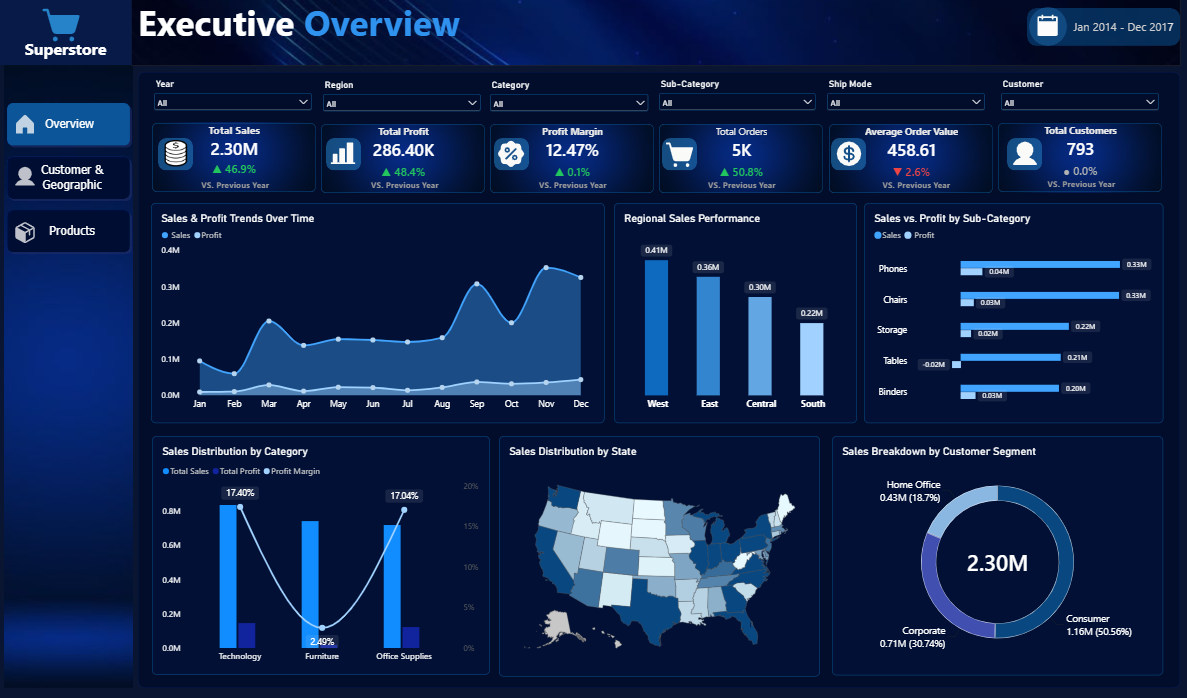

The page's visual inventory and layout, read from the dashboard file:
{"tool":"powerbi","page":{"name":"Overview","canvas":[1980,1170],"ordinal":0},"visuals":[{"type":"image","box":[8.3,111.7,215,1038.3],"z":0},{"type":"shape","box":[231.7,123.3,1736.7,1026.7],"z":1000},{"type":"image","box":[1100.7,210.5,273,115],"z":2000},{"type":"image","box":[1665.1,210.5,273,115],"z":3000},{"type":"image","box":[818.5,210.5,273,115],"z":4000},{"type":"image","box":[1382.9,210.5,273,115],"z":5000},{"type":"image","box":[537.7,209.4,273,115],"z":6000},{"type":"image","box":[255.2,206.5,273,115],"z":7000},{"type":"image","box":[220.4,0,1748.6,112.6],"z":8000},{"type":"textbox","box":[231.4,0,592.9,111.4],"z":9000},{"type":"shape","box":[0,0,220.8,111.8],"z":10000},{"type":"textbox","box":[36.7,67.2,148.9,44.1],"z":11000},{"type":"image","box":[22.9,12.2,162,67.2],"z":12000},{"type":"shape","box":[1713.7,15.9,255.2,63.4],"z":13000},{"type":"shape","box":[1716.8,14.3,63.4,65],"z":14000},{"type":"image","box":[1710.5,25.4,74.9,44.3],"z":15000},{"type":"slicer","fields":{"Values":["Dim_Products.Category"]},"box":[813.2,134.7,274.3,65],"z":16000},{"type":"slicer","fields":{"Values":["Dim_Customers.Customer Name"]},"box":[1664.5,133.2,272.7,66.6],"z":17000},{"type":"slicer","fields":{"Values":["Dim_Location.Region"]},"box":[534.2,134.7,272.7,65],"z":18000},{"type":"slicer","fields":{"Values":["Dim_ShipMode.Ship Mode"]},"box":[1374.4,133.2,272.7,66.6],"z":19000},{"type":"slicer","fields":{"Values":["Dim_Products.Sub-Category"]},"box":[1095.4,133.2,271.1,66.6],"z":20000},{"type":"cardVisual","fields":{"Data":["Measures_Table.Total Sales"]},"box":[255,208.8,273,115],"z":21000},{"type":"cardVisual","fields":{"Data":["Measures_Table.Profit Margin"]},"box":[818.8,209.9,273,115],"z":22000},{"type":"cardVisual","fields":{"Data":["Measures_Table.Total Profit"]},"box":[536.9,210,273,115],"z":23000},{"type":"cardVisual","fields":{"Data":["Measures_Table.Total Orders"]},"box":[1100.7,209.8,273,115],"z":24000},{"type":"cardVisual","fields":{"Data":["Measures_Table.AOV"]},"box":[1382.6,209.7,273,115],"z":25000},{"type":"cardVisual","fields":{"Data":["Measures_Table.Total Customers"]},"box":[1664.5,208.9,273,115.7],"z":26000},{"type":"slicer","fields":{"Values":["Dim_Date.Year"]},"box":[253.6,133.2,272.7,66.6],"z":27000},{"type":"lineChart","title":"Sales & Profit Trends Over Time","fields":{"Category":["Dim_Date.Short Month Name","Dim_Date.Quarter","Dim_Date.Year"],"Y":["Measures_Table.Total Sales","Measures_Table.Total Profit"]},"box":[253.3,341.5,756.4,366.5],"z":28000},{"type":"donutChart","title":"Sales Breakdown by Customer Segment","fields":{"Category":["Dim_Customers.Segment"],"Y":["Measures_Table.Total Sales"]},"box":[1388.9,729.5,551.6,398.9],"z":29000},{"type":"clusteredBarChart","title":"Sales vs. Profit by Sub-Category","fields":{"Category":["Dim_Products.Sub-Category"],"Y":["Measures_Table.Total Sales","Measures_Table.Total Profit"]},"box":[1441,341.4,499.5,366.5],"z":30000},{"type":"lineClusteredColumnComboChart","title":"Regional Sales Performance","fields":{"Category":["Dim_Location.Region"],"Y":["Measures_Table.Total Sales"]},"box":[1025,341.7,405,366.7],"z":31000},{"type":"lineClusteredColumnComboChart","title":"Sales Distribution by Category","fields":{"Category":["Dim_Products.Category"],"Y":["Measures_Table.Total Sales","Measures_Table.Total Profit"],"Y2":["Measures_Table.Profit Margin"]},"box":[255,730,563.3,398.3],"z":32000},{"type":"shapeMap","title":"Sales Distribution by State","fields":{"Category":["Dim_Location.State"],"Value":["Measures_Table.Total Sales"]},"box":[833.7,729.5,535.4,400.7],"z":33000},{"type":"textbox","box":[1780.3,34.9,188.6,36.5],"z":34000},{"type":"textbox","box":[528.8,301.2,296.1,39.4],"z":35000},{"type":"textbox","box":[253.3,301.2,280.7,24],"z":36000},{"type":"textbox","box":[809.5,301.2,292.6,39.4],"z":37000},{"type":"textbox","box":[1088.4,301.2,299.5,24],"z":38000},{"type":"textbox","box":[1382.9,301.4,290.9,24],"z":39000},{"type":"textbox","box":[1648,299.5,311.5,24],"z":40000},{"type":"pageNavigator","box":[8.6,170,215.1,261.9],"z":41000},{"type":"shape","box":[265.7,232.9,58.6,54.3],"z":42000},{"type":"shape","box":[1680,232.9,58.6,54.3],"z":43000},{"type":"shape","box":[1387.1,232.9,58.6,54.3],"z":44000},{"type":"shape","box":[1105.7,232.9,58.6,54.3],"z":45000},{"type":"shape","box":[824.3,232.9,58.6,54.3],"z":46000},{"type":"shape","box":[544.3,232.9,58.6,54.3],"z":47000},{"type":"image","box":[247.1,221.4,95.7,74.3],"z":48000},{"type":"image","box":[1684.3,231.4,50,55],"z":49000},{"type":"image","box":[1110,232.9,50,55],"z":50000},{"type":"image","box":[548.6,231.4,50,55],"z":51000},{"type":"image","box":[1391.4,231.4,50,55],"z":52000},{"type":"image","box":[828.6,231.4,50,55],"z":53000},{"type":"image","box":[22.9,271.4,40,52.9],"z":54000},{"type":"image","box":[22.9,365.7,40,52],"z":55000},{"type":"image","box":[22.9,184.3,40,52],"z":56000}]}

Visuals, with their boxes on the page's 1980x1170 design canvas (x1, y1, x2, y2). These are canvas units, not pixel positions in the 1187x698 screenshot, which may show the page scaled, cropped or inside an application window:
image: Rect(8, 112, 223, 1150)
shape: Rect(232, 123, 1968, 1150)
image: Rect(1101, 210, 1374, 326)
image: Rect(1665, 210, 1938, 326)
image: Rect(818, 210, 1092, 326)
image: Rect(1383, 210, 1656, 326)
image: Rect(538, 209, 811, 324)
image: Rect(255, 206, 528, 322)
image: Rect(220, 0, 1969, 113)
textbox: Rect(231, 0, 824, 111)
shape: Rect(0, 0, 221, 112)
textbox: Rect(37, 67, 186, 111)
image: Rect(23, 12, 185, 79)
shape: Rect(1714, 16, 1969, 79)
shape: Rect(1717, 14, 1780, 79)
image: Rect(1710, 25, 1785, 70)
slicer - Dim_Products.Category: Rect(813, 135, 1088, 200)
slicer - Dim_Customers.Customer Name: Rect(1664, 133, 1937, 200)
slicer - Dim_Location.Region: Rect(534, 135, 807, 200)
slicer - Dim_ShipMode.Ship Mode: Rect(1374, 133, 1647, 200)
slicer - Dim_Products.Sub-Category: Rect(1095, 133, 1366, 200)
cardVisual - Measures_Table.Total Sales: Rect(255, 209, 528, 324)
cardVisual - Measures_Table.Profit Margin: Rect(819, 210, 1092, 325)
cardVisual - Measures_Table.Total Profit: Rect(537, 210, 810, 325)
cardVisual - Measures_Table.Total Orders: Rect(1101, 210, 1374, 325)
cardVisual - Measures_Table.AOV: Rect(1383, 210, 1656, 325)
cardVisual - Measures_Table.Total Customers: Rect(1664, 209, 1938, 325)
slicer - Dim_Date.Year: Rect(254, 133, 526, 200)
"Sales & Profit Trends Over Time" lineChart: Rect(253, 342, 1010, 708)
"Sales Breakdown by Customer Segment" donutChart: Rect(1389, 730, 1940, 1128)
"Sales vs. Profit by Sub-Category" clusteredBarChart: Rect(1441, 341, 1940, 708)
"Regional Sales Performance" lineClusteredColumnComboChart: Rect(1025, 342, 1430, 708)
"Sales Distribution by Category" lineClusteredColumnComboChart: Rect(255, 730, 818, 1128)
"Sales Distribution by State" shapeMap: Rect(834, 730, 1369, 1130)
textbox: Rect(1780, 35, 1969, 71)
textbox: Rect(529, 301, 825, 341)
textbox: Rect(253, 301, 534, 325)
textbox: Rect(810, 301, 1102, 341)
textbox: Rect(1088, 301, 1388, 325)
textbox: Rect(1383, 301, 1674, 325)
textbox: Rect(1648, 300, 1960, 324)
pageNavigator: Rect(9, 170, 224, 432)
shape: Rect(266, 233, 324, 287)
shape: Rect(1680, 233, 1739, 287)
shape: Rect(1387, 233, 1446, 287)
shape: Rect(1106, 233, 1164, 287)
shape: Rect(824, 233, 883, 287)
shape: Rect(544, 233, 603, 287)
image: Rect(247, 221, 343, 296)
image: Rect(1684, 231, 1734, 286)
image: Rect(1110, 233, 1160, 288)
image: Rect(549, 231, 599, 286)
image: Rect(1391, 231, 1441, 286)
image: Rect(829, 231, 879, 286)
image: Rect(23, 271, 63, 324)
image: Rect(23, 366, 63, 418)
image: Rect(23, 184, 63, 236)
